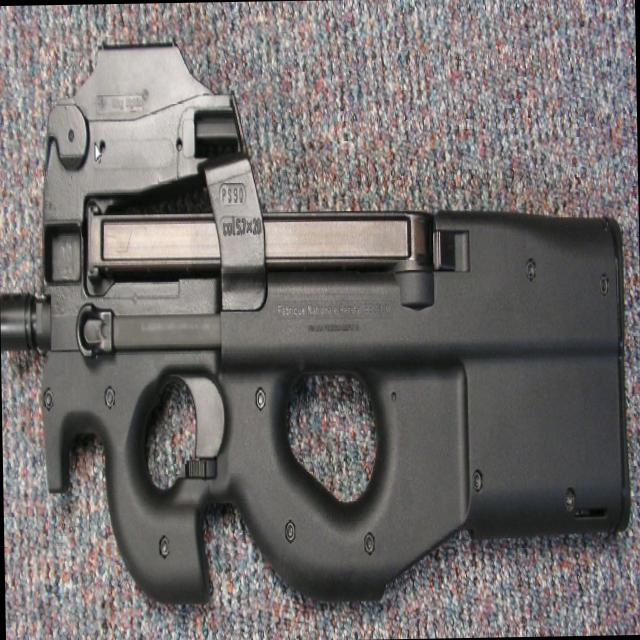Gun: (0, 28, 637, 640)
